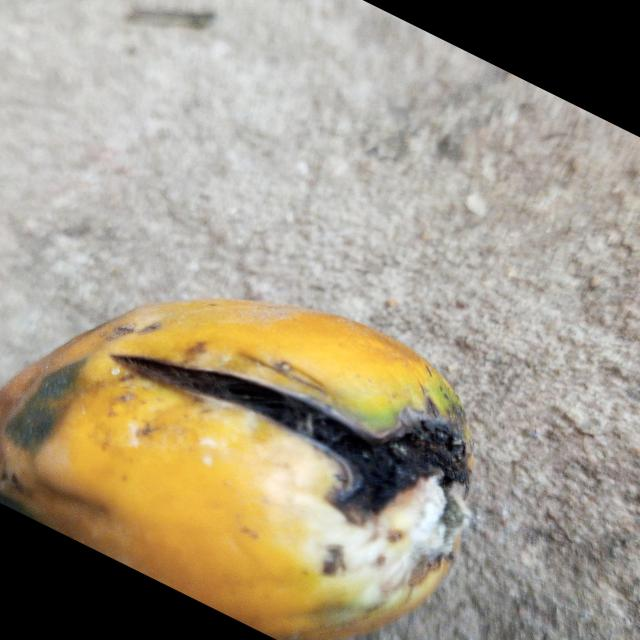damaged: (0, 298, 471, 640)
